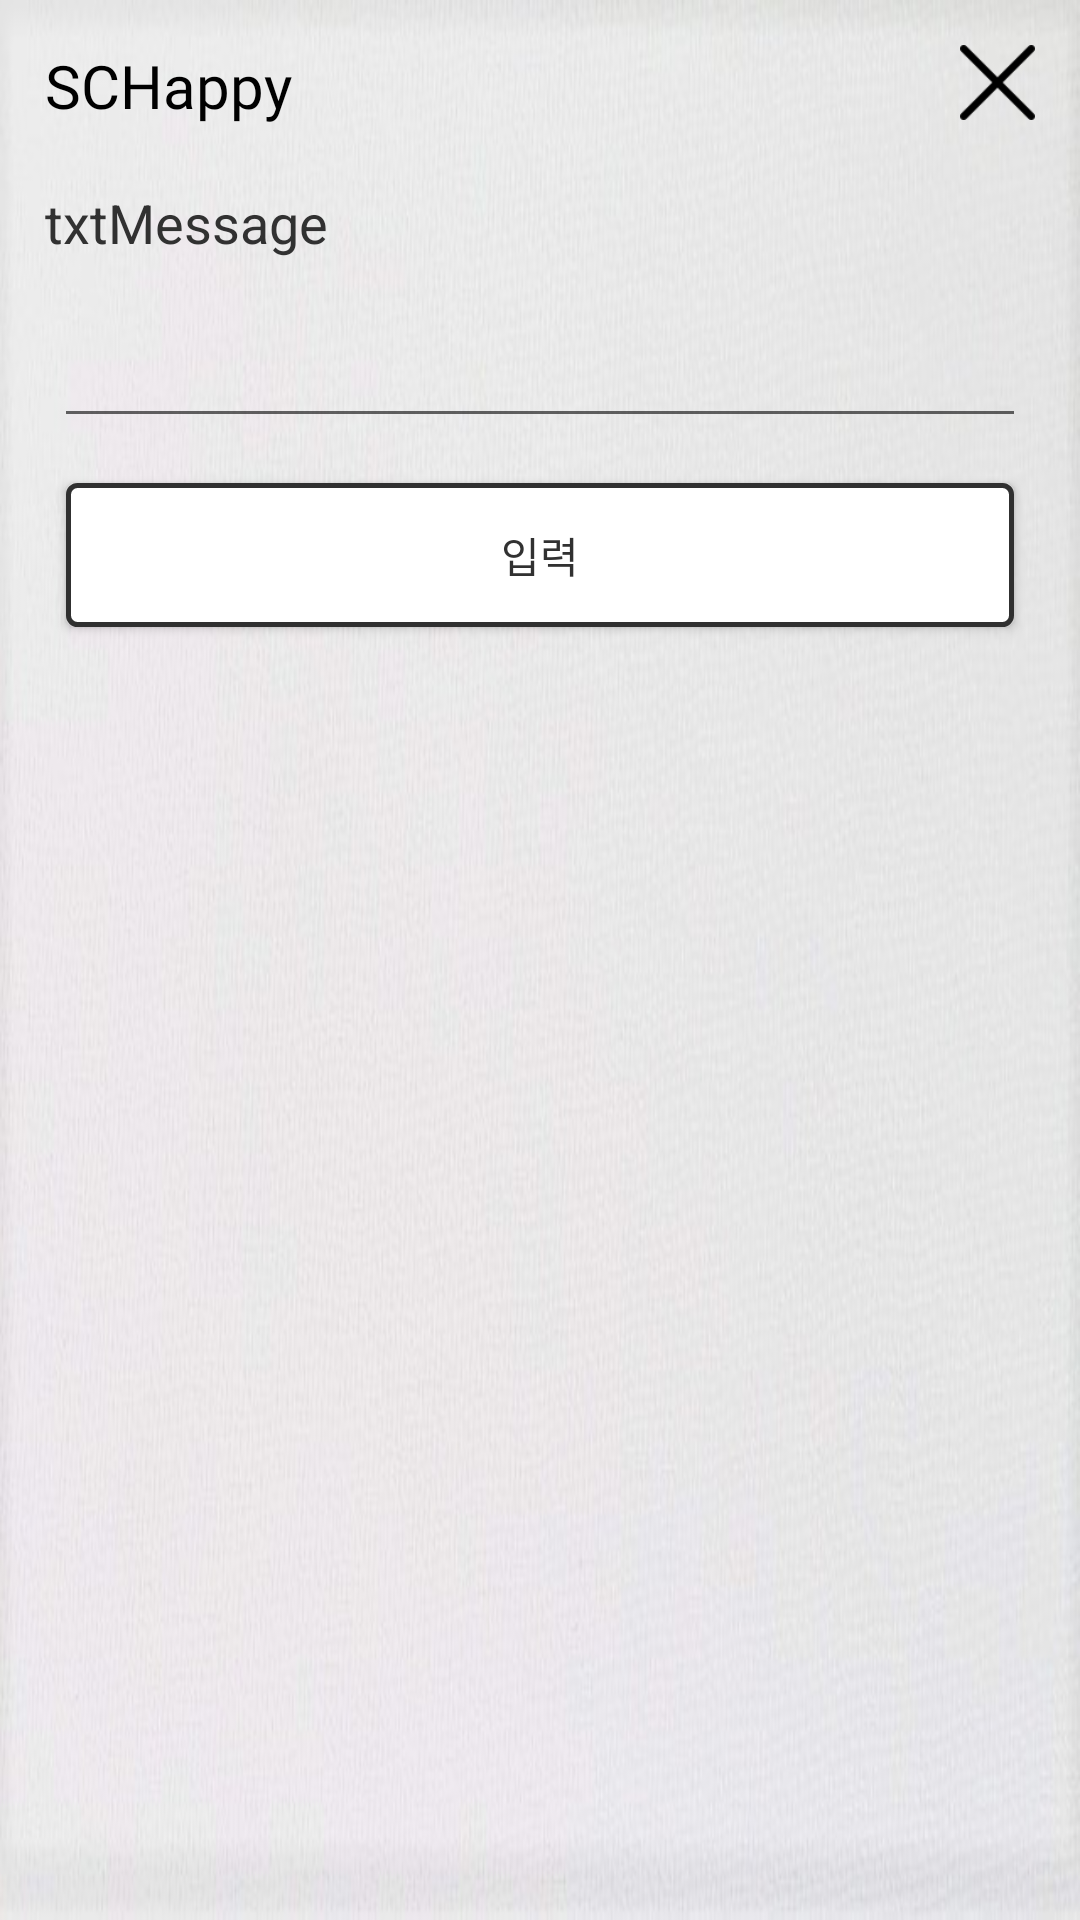

Locate icon controls on the screen. Image size 1080×1920, boxes as (x1, y1, x2, y2).
exit: (960, 45, 1035, 120)
